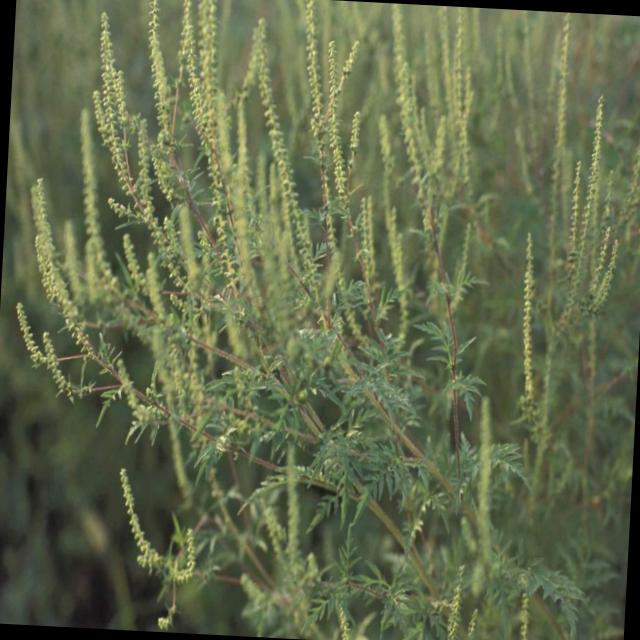ambrosia: (60, 17, 234, 225), (490, 234, 624, 460), (383, 15, 575, 171), (277, 12, 369, 252), (104, 458, 227, 631), (12, 199, 88, 408), (576, 86, 640, 221)
